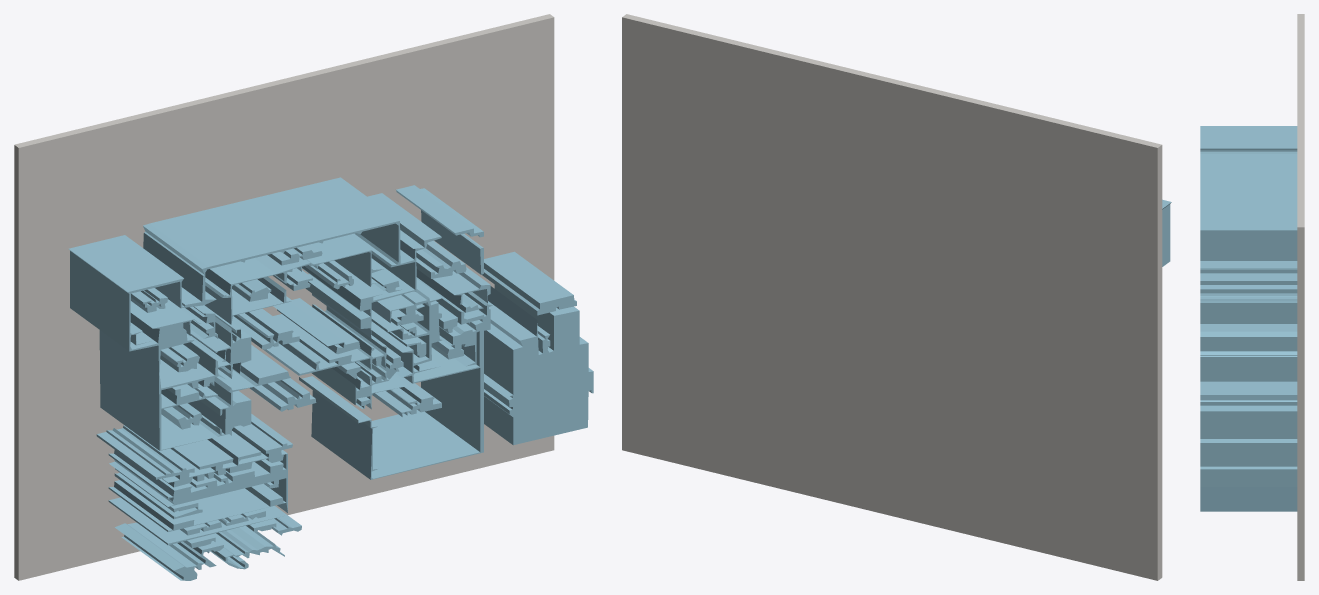
3 renders of one model, left to right at view 1: azimuth 30°, elevation 25°; view 2: azimuth 150°, elevation 25°; view 3: azimuth 270°, elevation 25°, orthographic. The views are drawn at different scales.
Parts seen in each view (by area): view 1: world; view 2: world; view 3: world.
Boxes of the visible parts, x1=… form: world: x1=14, y1=14, x2=593, y2=580; world: x1=622, y1=14, x2=1171, y2=580; world: x1=1200, y1=14, x2=1304, y2=580.
Size of the model in its own units: 10.23 by 7.9 by 2.11.
